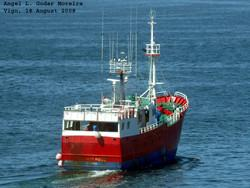otherboat: (57, 7, 197, 170)
